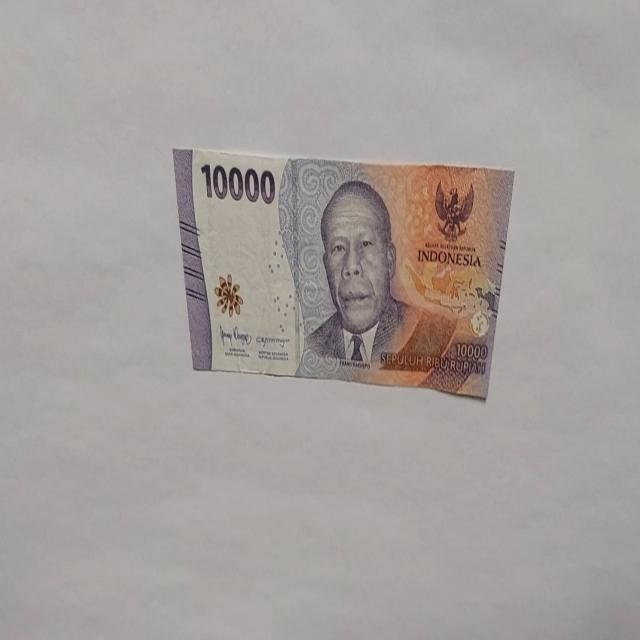sepuluh ribu rupiah: (172, 145, 515, 401), (199, 160, 276, 206)
